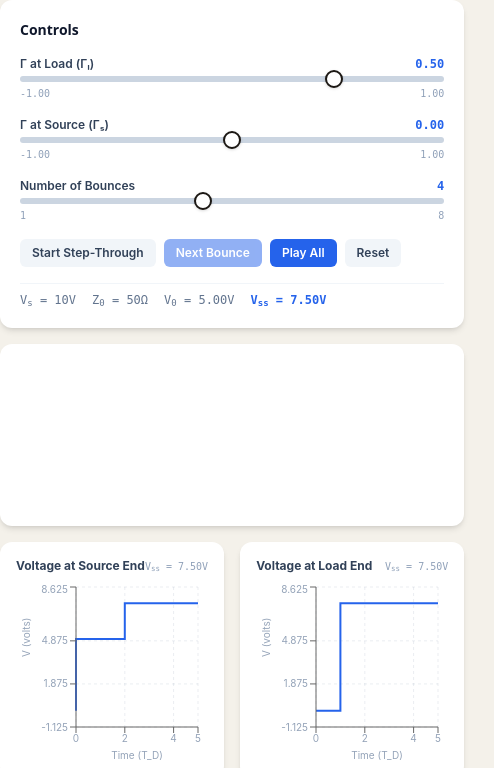
Scenario: BounceDiagram V_ss readout flags |Γ_L·Γ_S| ≥ 1 as unstable (A.1#9) › shows "∞ (unstable)" for Γ_L=+1, Γ_S=−1 — sustained oscillation, no steady state
The width and height of the screenshot is (494, 768).
Set the slider labelled "Γ at Load (Γₗ) 0.50 -1.00 1.00" to "1" at [436, 79], box [20,76,444,82]
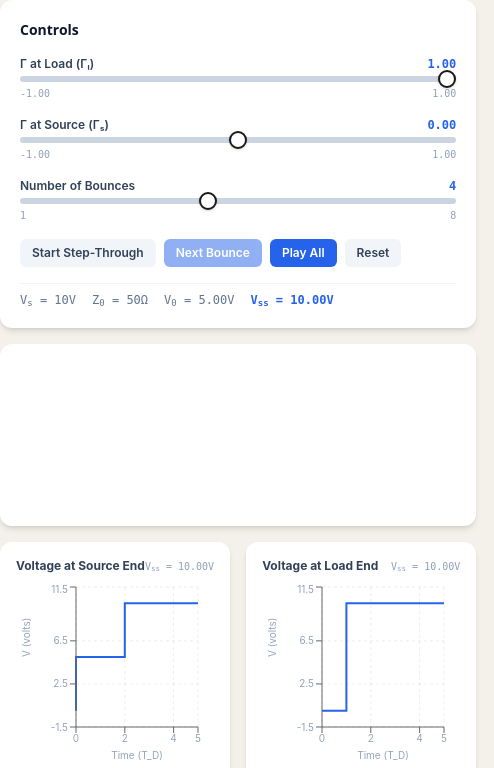
Set the slider labelled "Γ at Source (Γₛ) 0.00 -1.00 1.00" to "-1" at [28, 140], box [20,137,456,143]
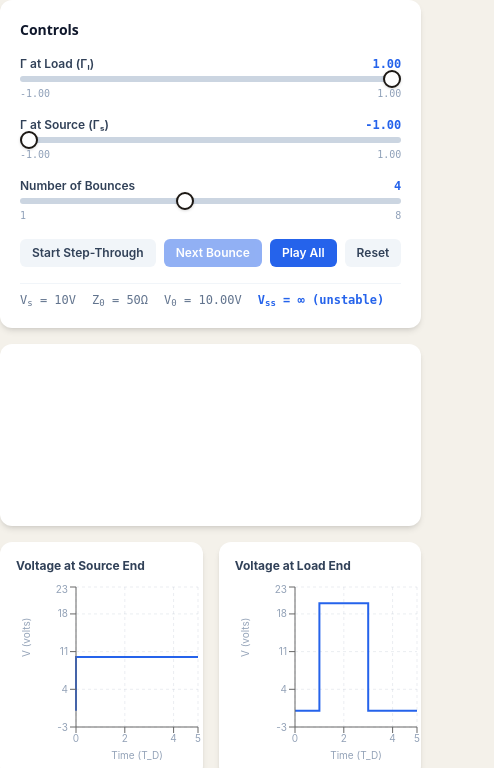
Expected: the text "Vss = ∞ (unstable)" is shown, [258,292,384,308]
